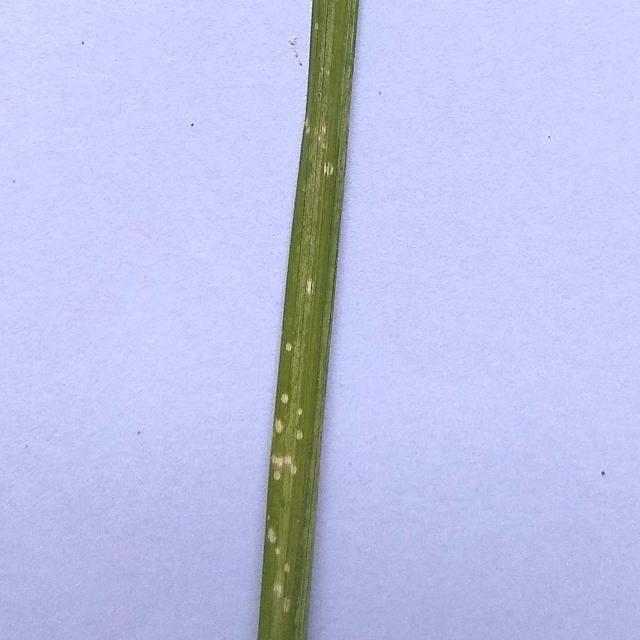Leaf blast: (228, 0, 406, 640)
